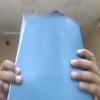notebook: (6, 10, 94, 99)
